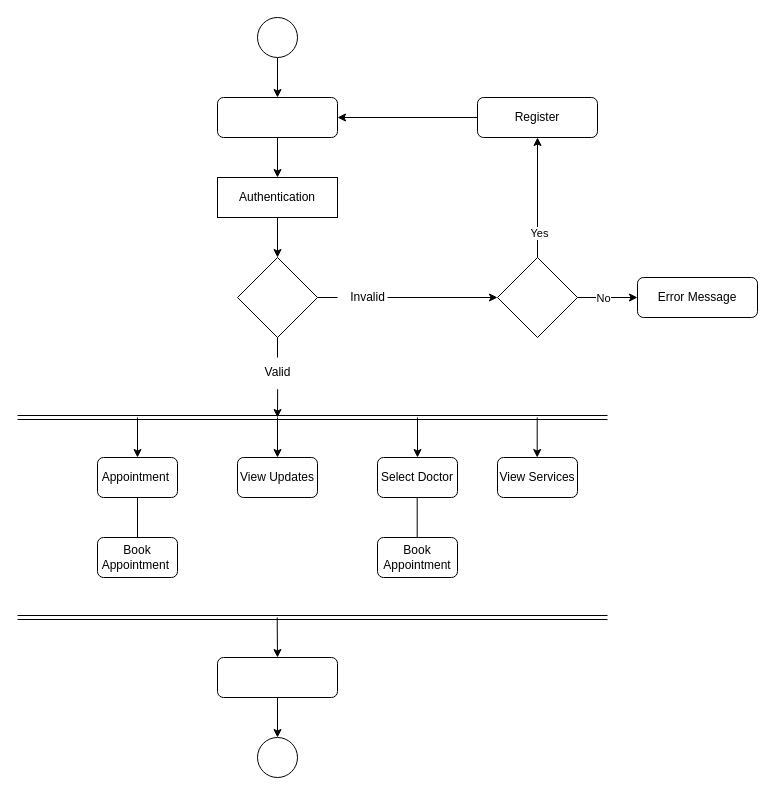
Image size: 775x795. Some labels were removed from this diagram. Here are the shapes that lost their labels. From the top down, the centre of each, then its label:
point (277, 117): Login
point (277, 297): Check
point (537, 297): if not register?
point (277, 677): Logout
